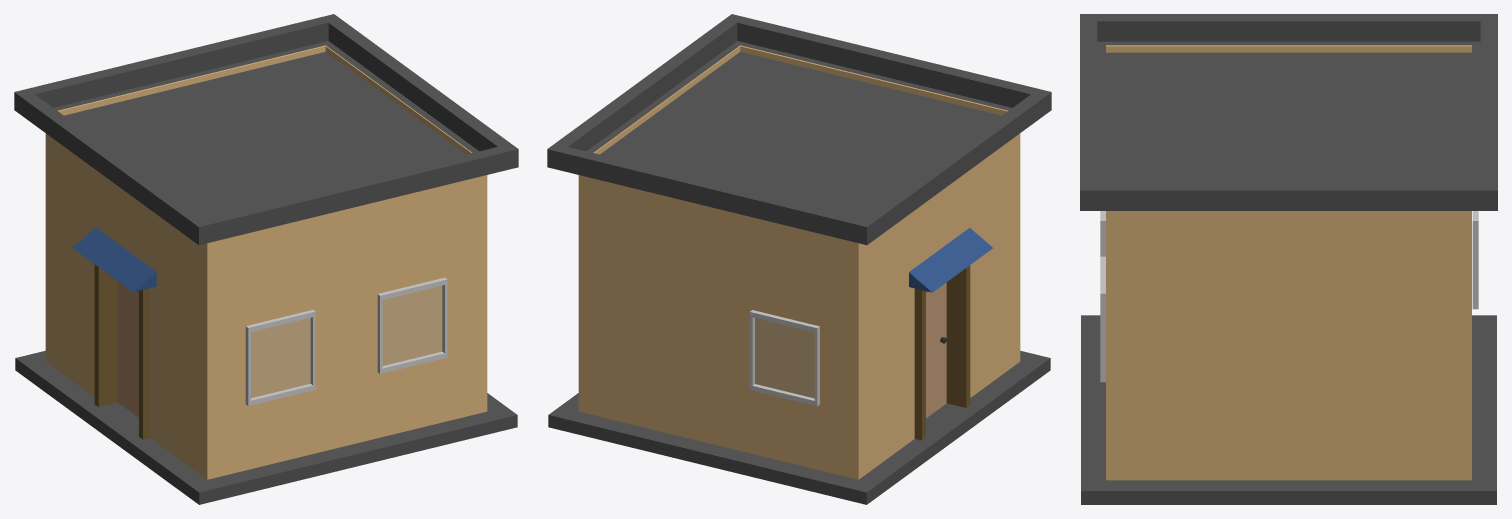
Rendered from Haus 2.gltf.
3 renders of one model, left to right at view 1: azimuth 30°, elevation 25°; view 2: azimuth 150°, elevation 25°; view 3: azimuth 270°, elevation 25°, orthographic. The views are drawn at different scales.
Parts seen in each view (by area): view 1: Haus; view 2: Haus; view 3: Haus.
Boxes of the visible parts, bbox=[...] form: Haus: bbox=[14, 14, 518, 504]; Haus: bbox=[547, 14, 1051, 504]; Haus: bbox=[1080, 14, 1497, 504].
Bounding box in the file's own units: 12.01 × 9.87 × 11.87.
